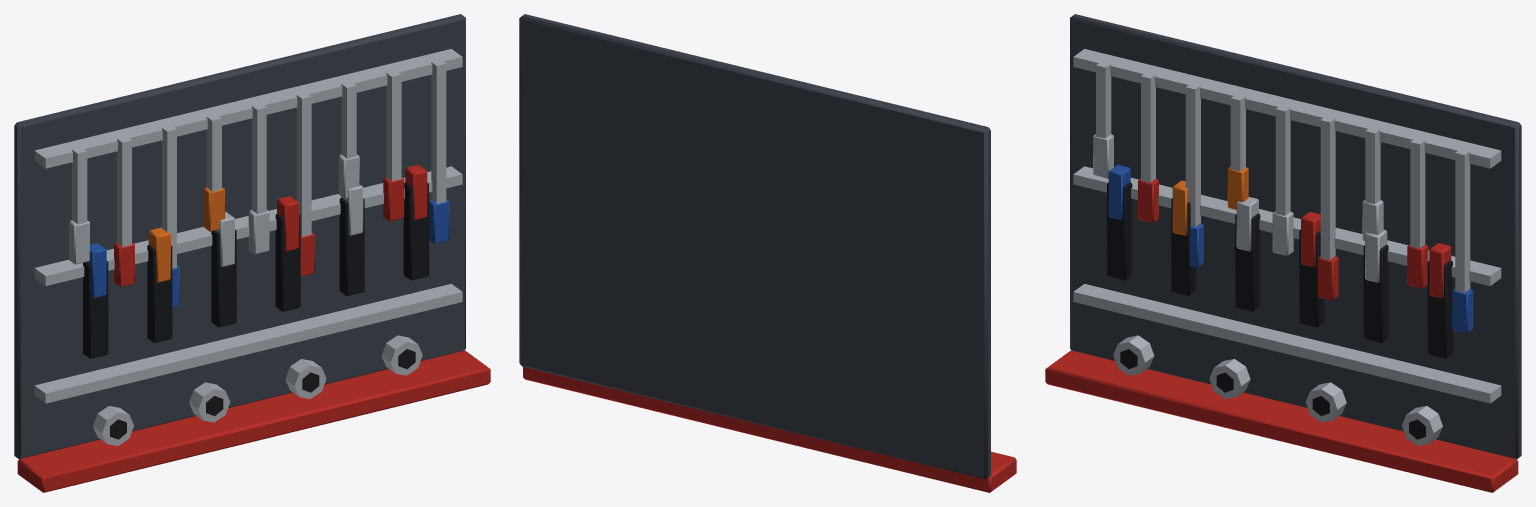
Rendered from engtool_tool_rack.glb.
3 renders of one model, left to right at view 1: azimuth 30°, elevation 25°; view 2: azimuth 150°, elevation 25°; view 3: azimuth 330°, elevation 25°, orthographic. The views are drawn at different scales.
Visible parts, largest first — view 1: engtool_tool_rack; view 2: engtool_tool_rack; view 3: engtool_tool_rack.
Boxes of the visible parts, <box> form: engtool_tool_rack: <box>14,14,490,492</box>; engtool_tool_rack: <box>519,14,1016,492</box>; engtool_tool_rack: <box>1045,14,1521,492</box>.
Size of the model in its own units: 1.4 by 1.04 by 0.16.
